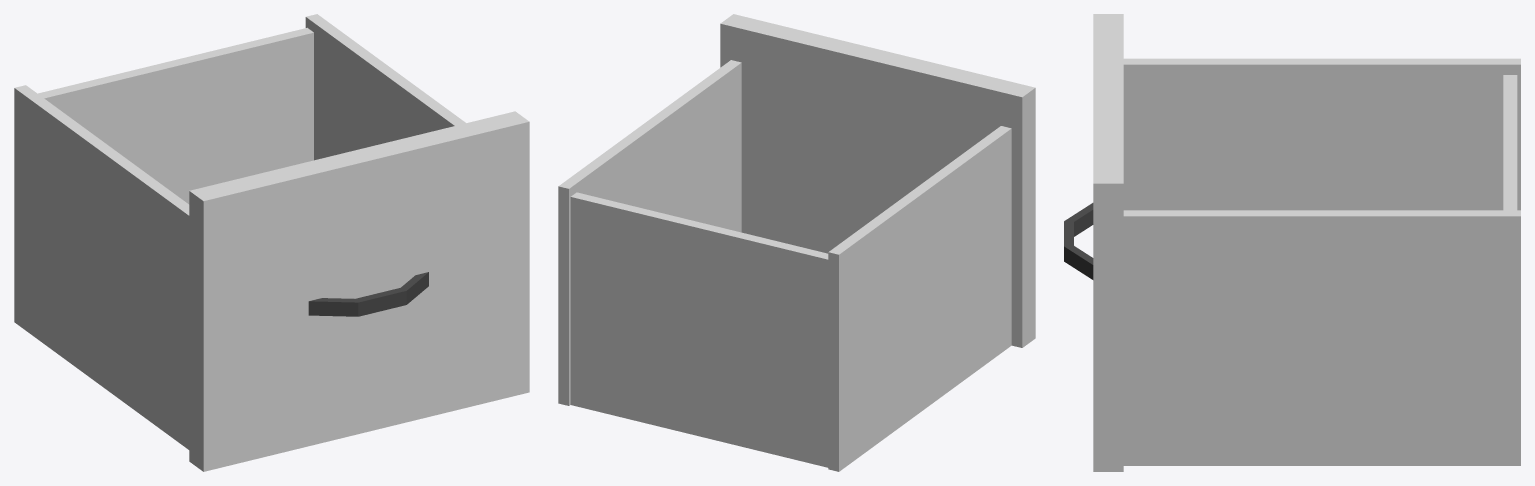
Rendered from Armaario01_Cajon02.fbx.
The picture shows the model from 3 angles, left to right: view 1: azimuth 30°, elevation 25°; view 2: azimuth 150°, elevation 25°; view 3: azimuth 270°, elevation 25°; orthographic projection. The views are drawn at different scales.
Visible parts, largest first — view 1: Armaario01_Cajon02; view 2: Armaario01_Cajon02; view 3: Armaario01_Cajon02.
Boxes of the visible parts, x1=… form: Armaario01_Cajon02: x1=14, y1=14, x2=529, y2=471; Armaario01_Cajon02: x1=558, y1=14, x2=1035, y2=471; Armaario01_Cajon02: x1=1064, y1=14, x2=1520, y2=471.
Size of the model in its own units: 40.01 by 31.75 by 45.58.
